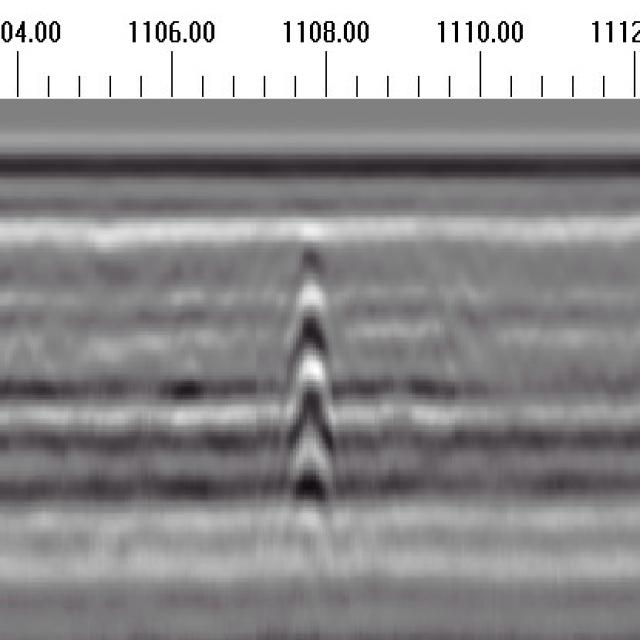crack: (273, 228, 338, 544)
